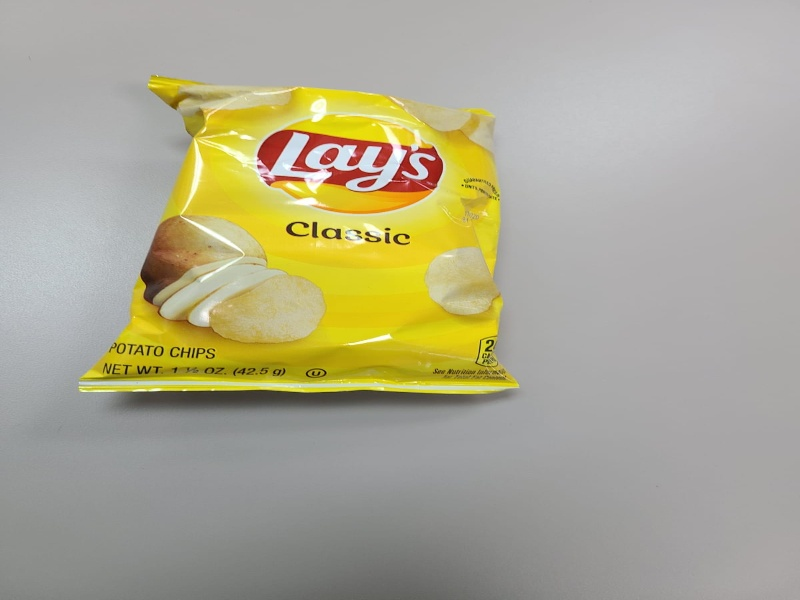lays: (75, 70, 529, 399)
